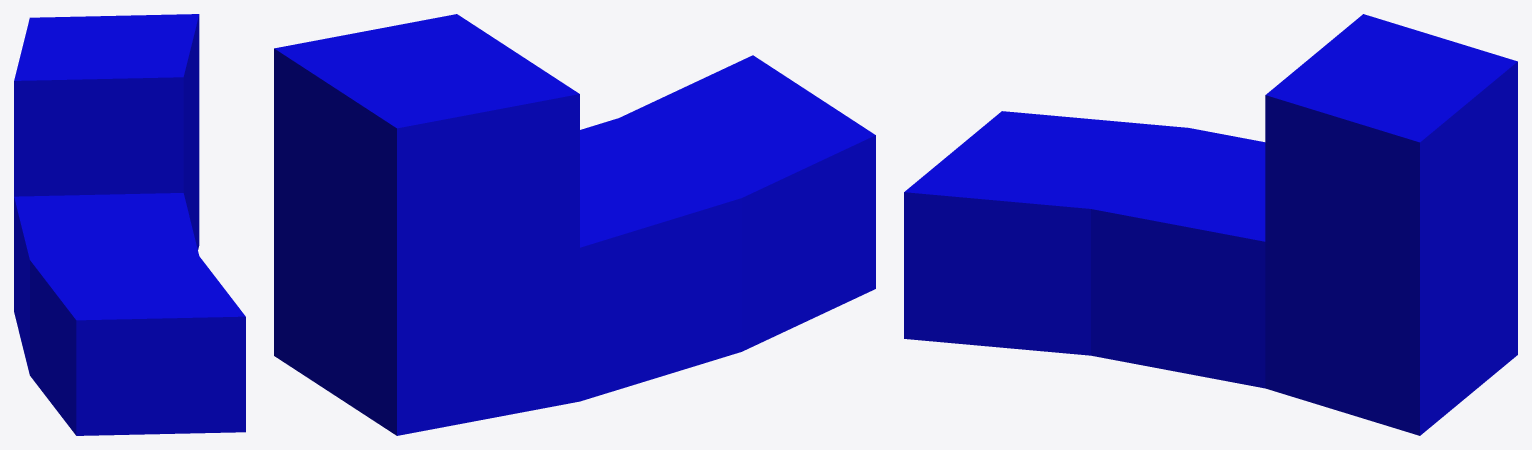
Rendered from Piece6.fbx.
3 views of the same model, side by side, from view 1: azimuth 30°, elevation 25°; view 2: azimuth 150°, elevation 25°; view 3: azimuth 270°, elevation 25° (orthographic). The views are drawn at different scales.
Visible parts, largest first — view 1: Block6; view 2: Block6; view 3: Block6.
Boxes of the visible parts, x1,y1,x2,y2 form: Block6: [14, 14, 245, 435]; Block6: [274, 14, 875, 435]; Block6: [904, 14, 1517, 435].
Size of the model in its own units: 196 by 150 by 285.
